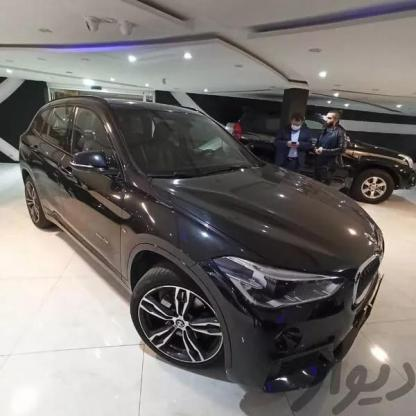Car: (10, 97, 360, 376), (217, 114, 416, 202)
